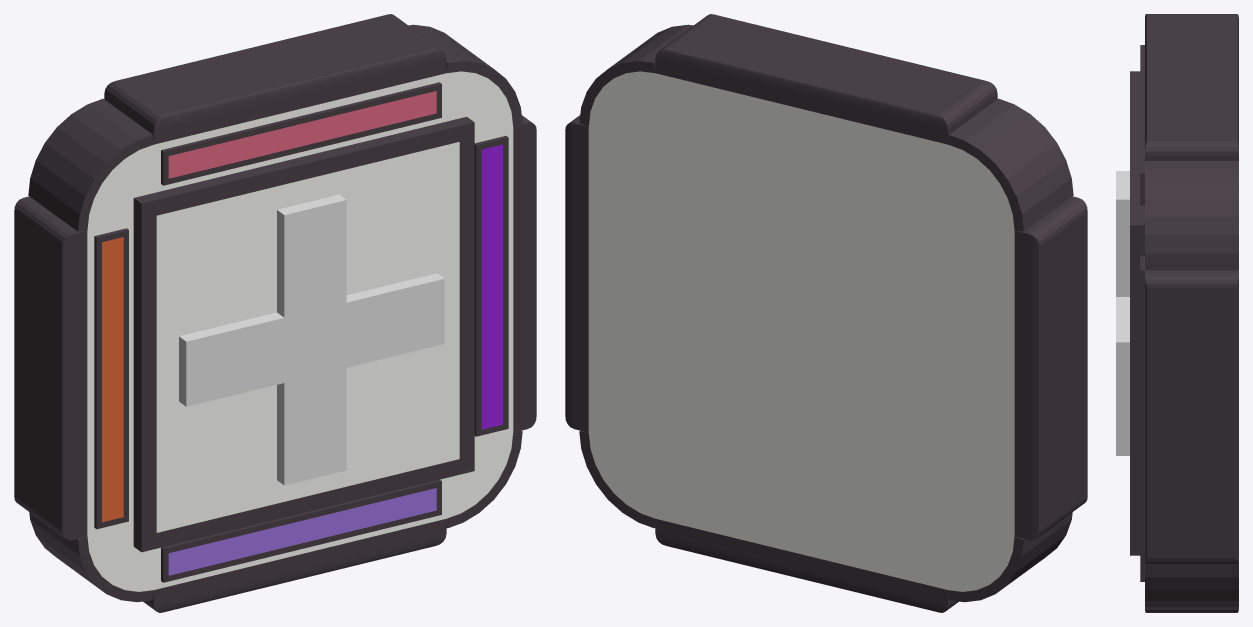
The model's file is upgrade_plus.fbx.
3 renders of one model, left to right at view 1: azimuth 30°, elevation 25°; view 2: azimuth 150°, elevation 25°; view 3: azimuth 270°, elevation 25°, orthographic. The views are drawn at different scales.
Visible parts, largest first — view 1: Cube.001; view 2: Cube.001; view 3: Cube.001.
Part boxes in pixels (<box>): Cube.001: <box>14,14,536,612</box>; Cube.001: <box>565,14,1087,612</box>; Cube.001: <box>1116,14,1238,612</box>.
Size of the model in its own units: 223 by 223 by 52.79.
